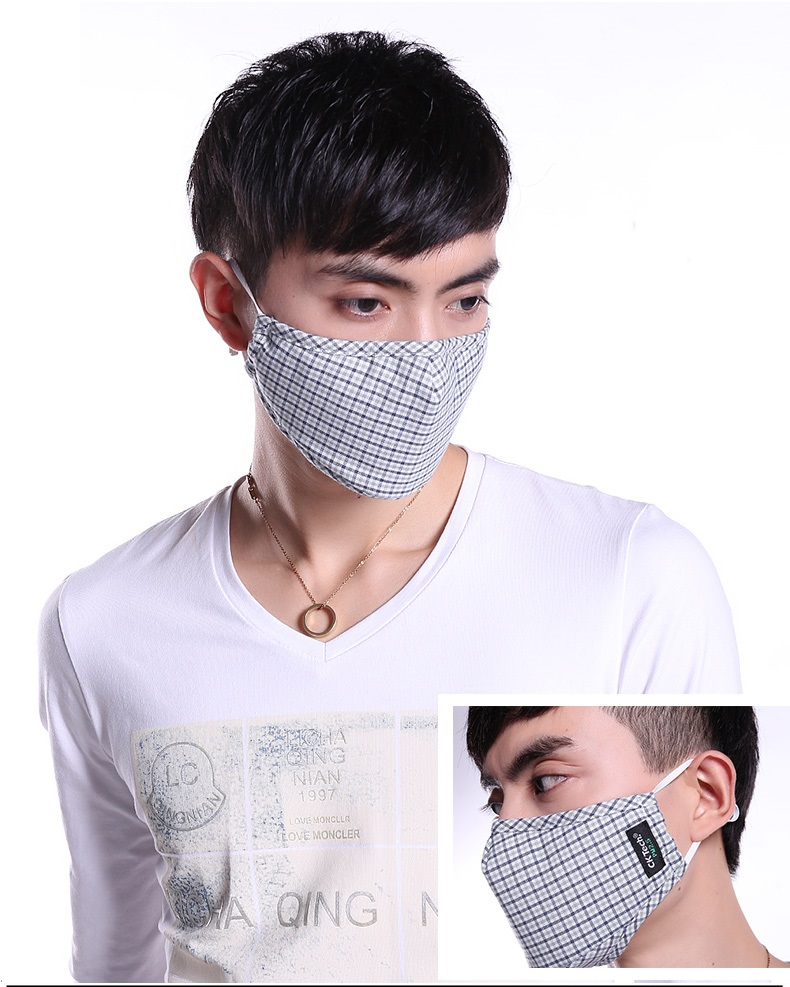face_mask: (264, 162, 500, 503), (475, 707, 641, 978)
